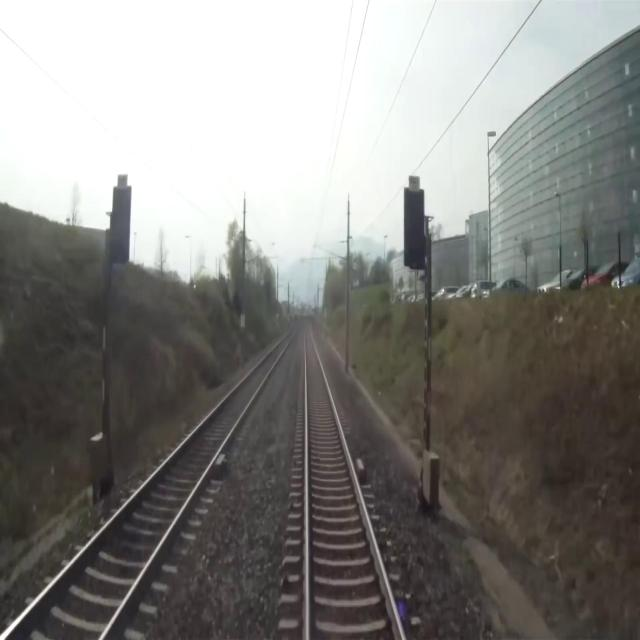rail-track: (5, 333, 291, 639), (306, 330, 401, 639)
